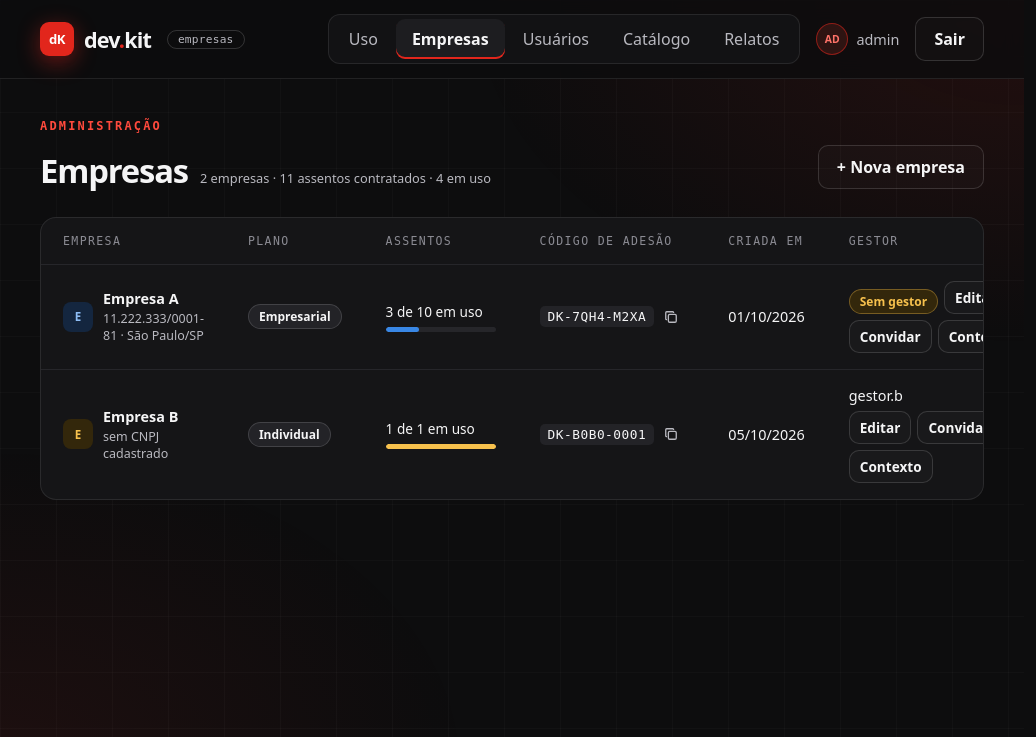
Test: Empresas (US #381; visual da US #461) › o painel Contexto (US #550): o admin vê os três níveis e grava o contexto de um usuário da empresa
Click the button with aria-label "Contexto de Empresa A": (980, 336) [938,320,1021,353]
(page scrolled)
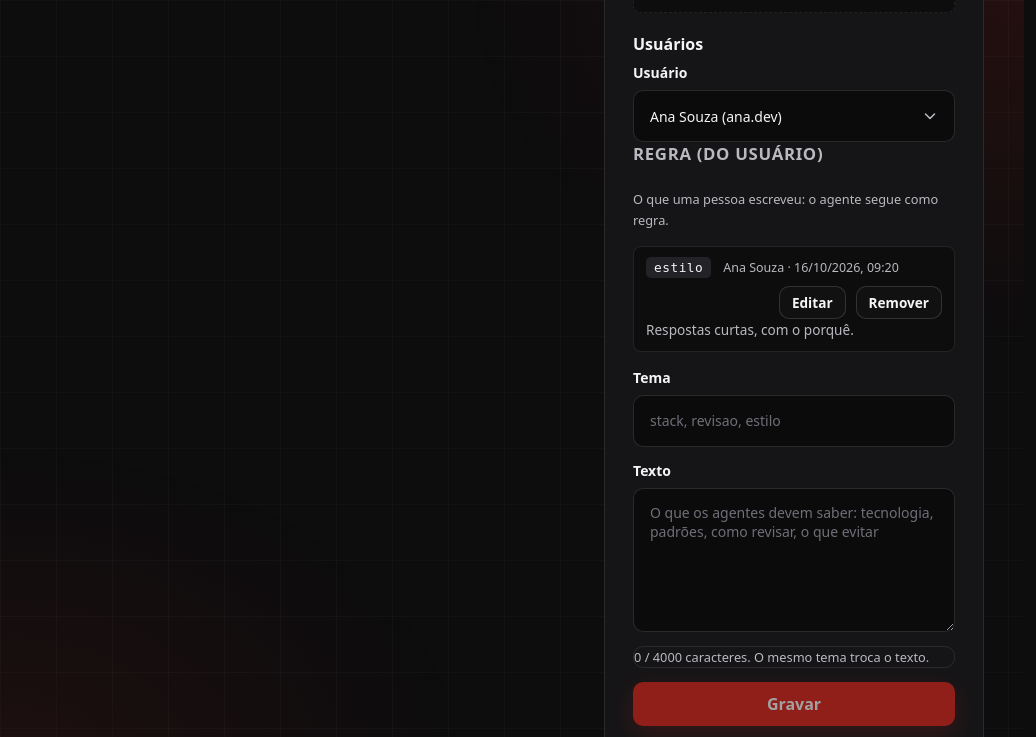
Result: the text "Respostas curtas, com o porquê." is shown at [646,320,854,339]
In the field labelled "Tema": (794, 421) [633,395,955,447], type "estilo"
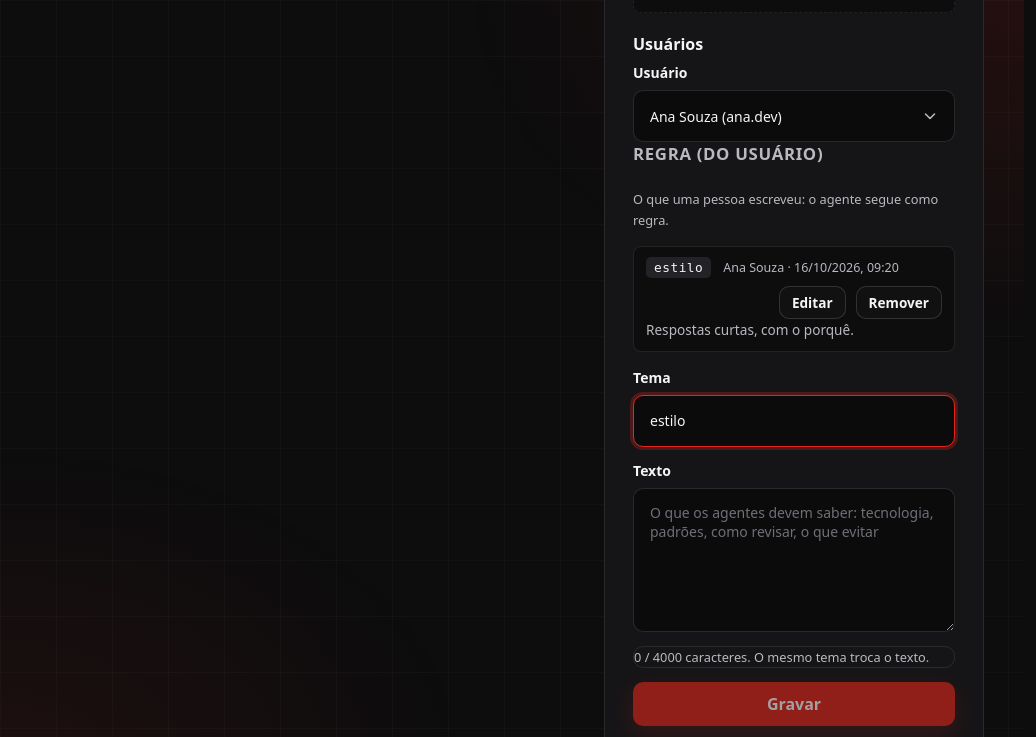
In the text box labelled "Texto": (794, 560) [633,488,955,632], type "Explique o porquê."
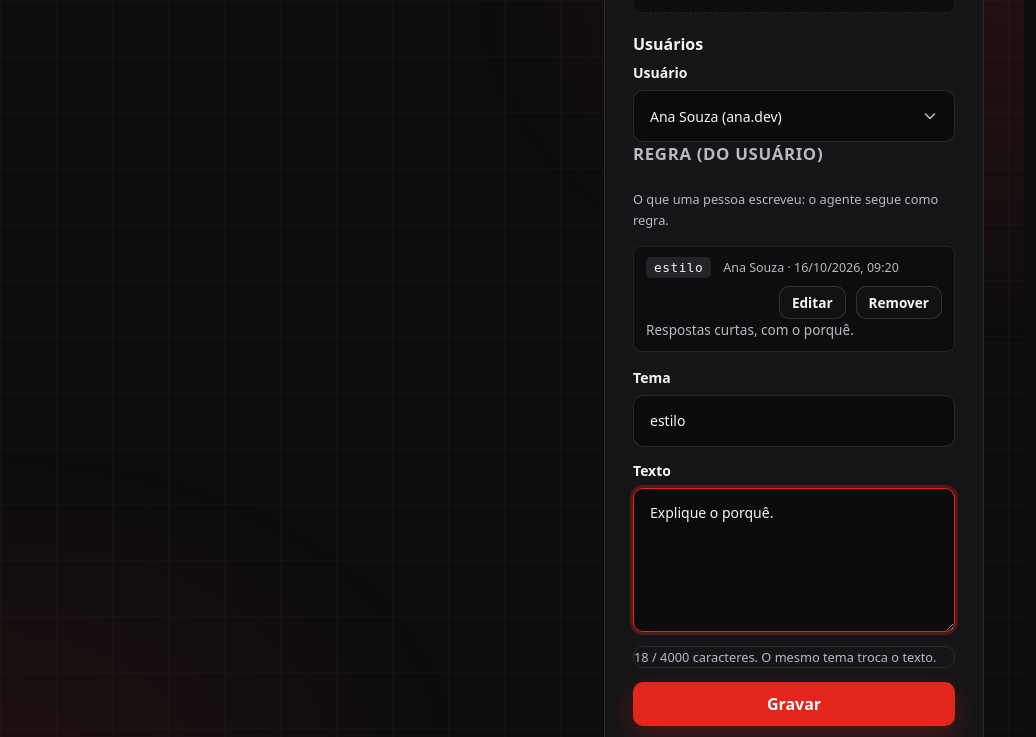
Click the button "Gravar": (794, 704) [633,682,955,726]
(page scrolled)
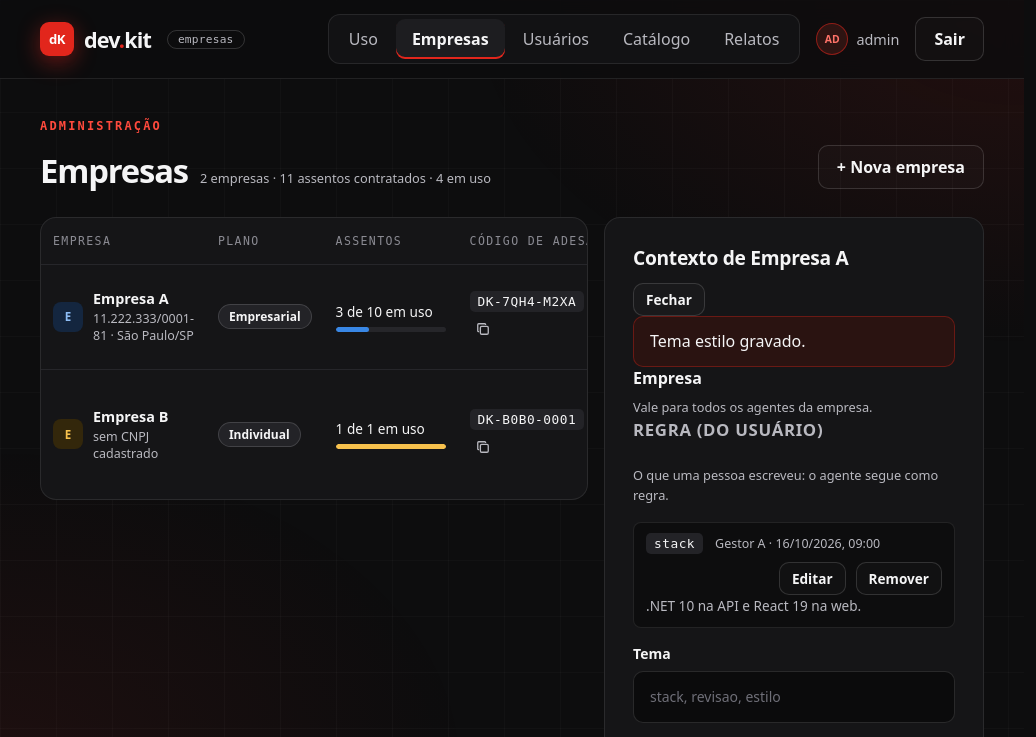
Result: the text "Tema estilo gravado." is shown at [633,316,955,368]
Click the button "Fechar": (669, 299) [633,283,705,316]
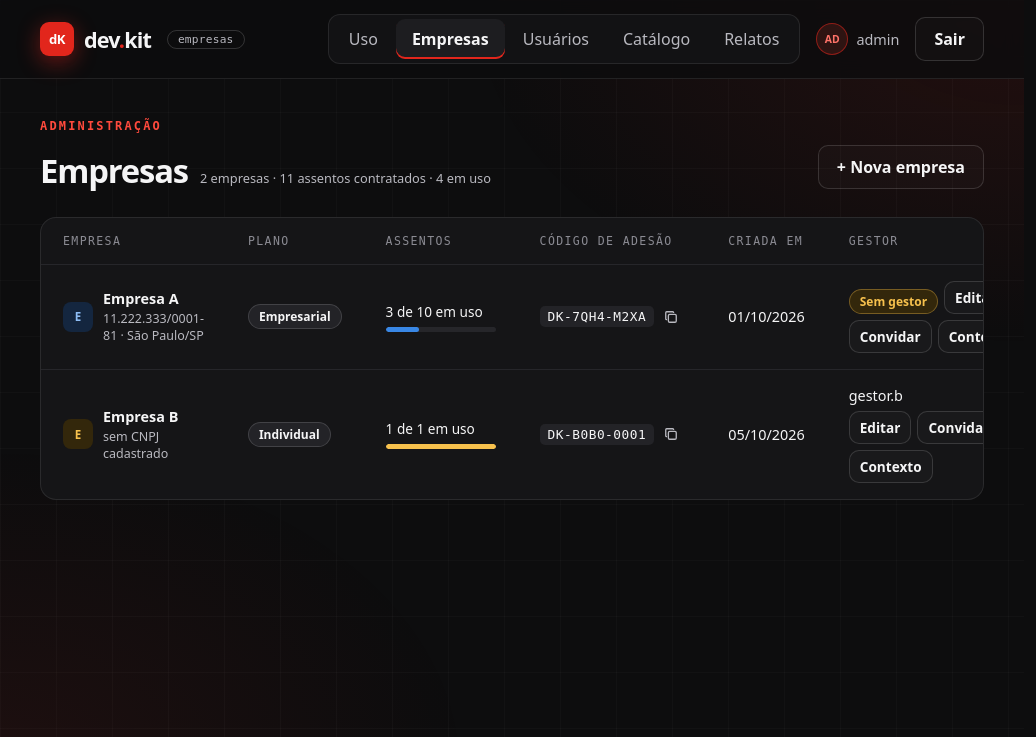
Result: the heading "Contexto de Empresa A" is gone
